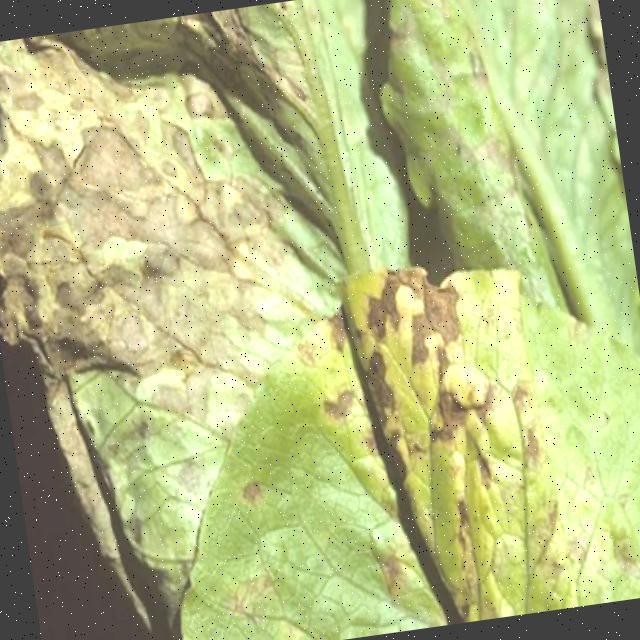Septoria_Blight_on_lettuce: (301, 276, 561, 604)
